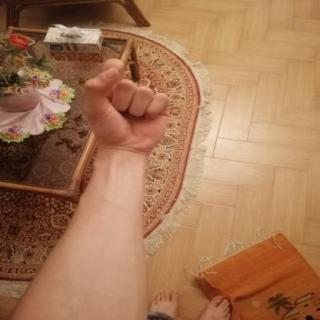FAA: (70, 51, 182, 164)
